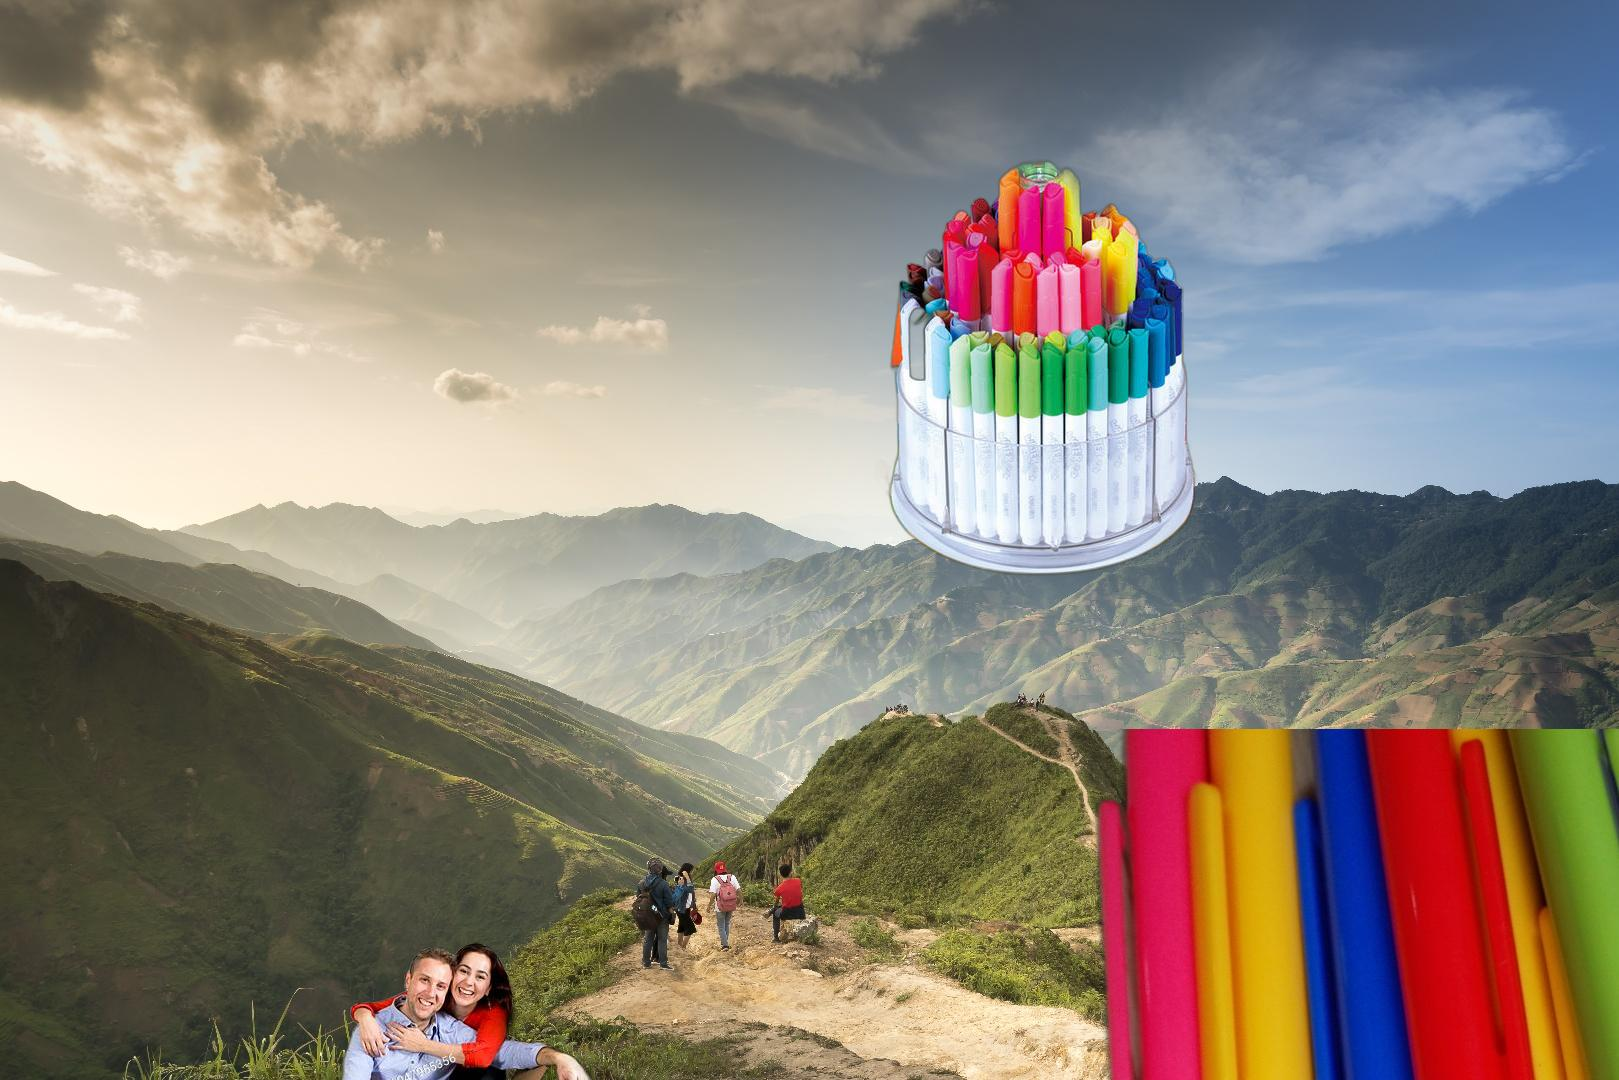penholder: (873, 88, 1321, 579), (1013, 729, 1619, 1080)
trashbox-cardboard: (291, 940, 646, 1080)
